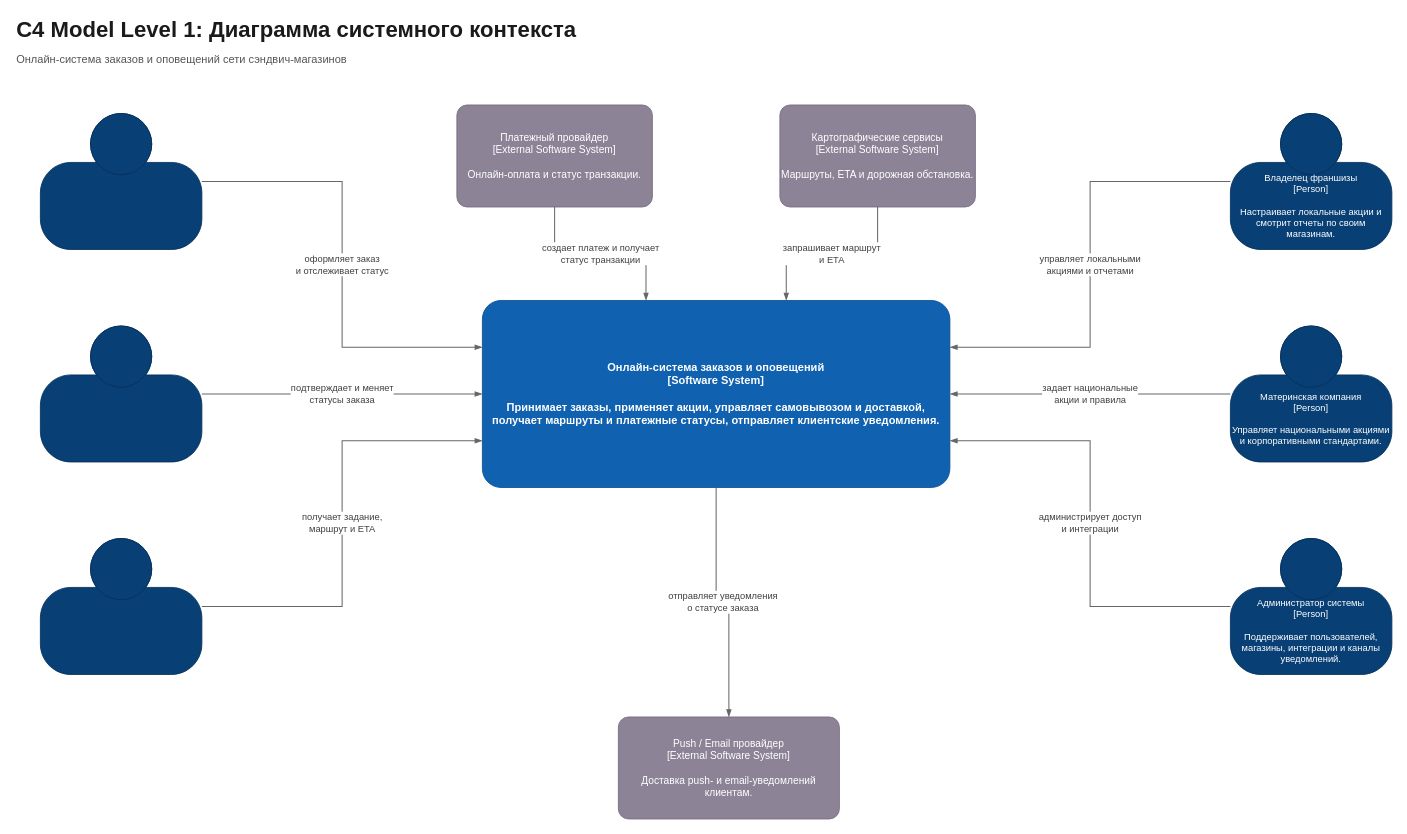
Some shapes in this 1407 by 834 pixel diagram are drawn without their labels. The centre of each missing label's shape, as x and y in pixels:
"Клиент [Person] Оформляет заказ, получает статус, маршрут и ETA." goes at (121,181).
"Курьер [Person] Получает задание на доставку, маршрут и подтверждает вручение." goes at (121,606).
"Сотрудник магазина [Person] Подтверждает заказ и меняет статусы приготовления." goes at (121,393).
